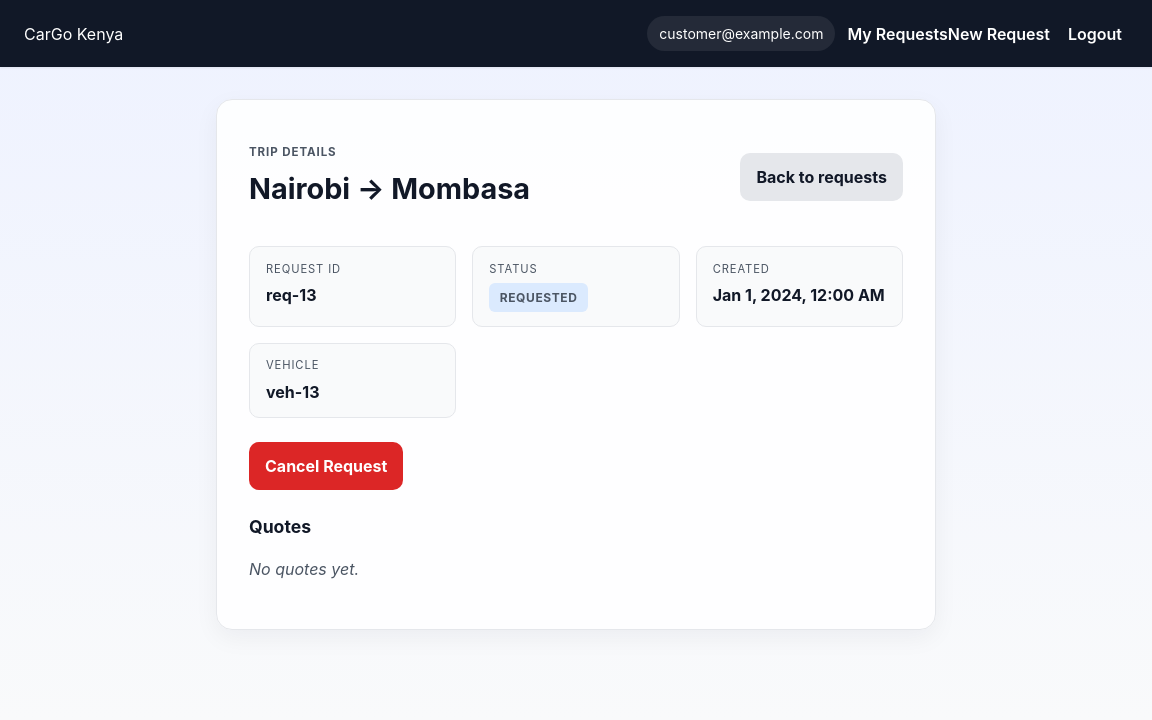
it: customer foundation workflow › shows error when cancellation fails
This screenshot has width=1152, height=720.
Click the button "Cancel Request" at (326, 466), box 249,442 -> 403,490
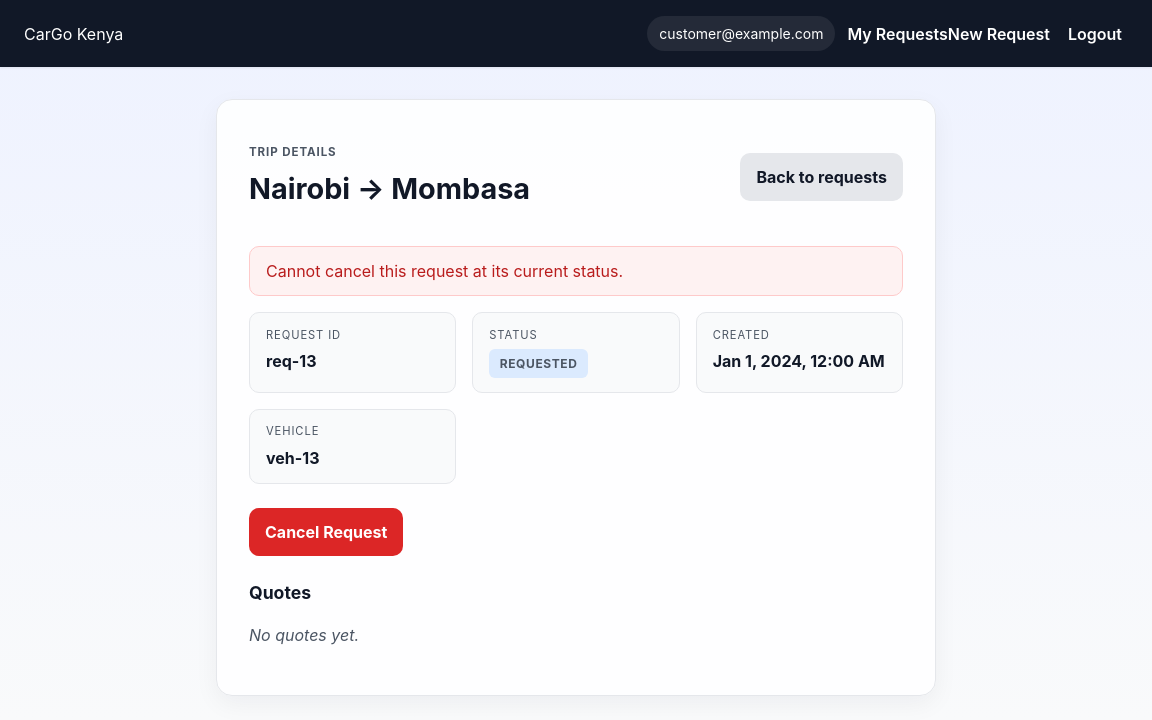
Check: the text "Cannot cancel this request at its current status." is shown, box 249,246 -> 903,296
